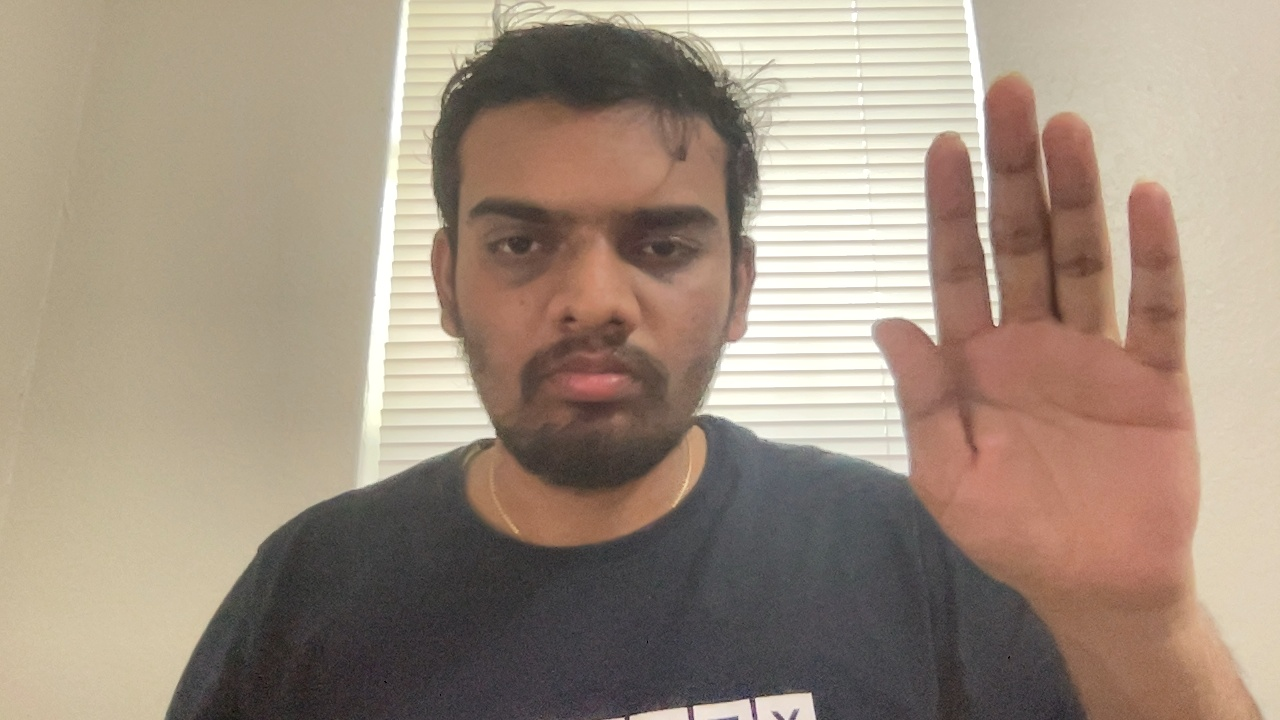hello: (868, 71, 1205, 618)
